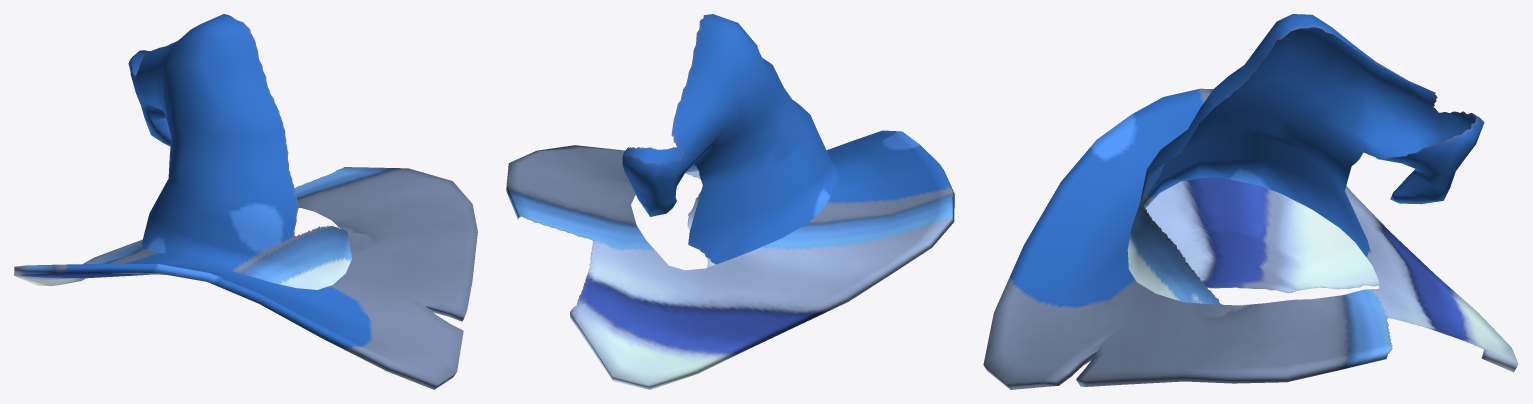
The model's file is Hat_WitchesHat.fbx.
The picture shows the model from 3 angles, left to right: view 1: azimuth 30°, elevation 25°; view 2: azimuth 150°, elevation 25°; view 3: azimuth 270°, elevation 25°; orthographic projection. The views are drawn at different scales.
Visible parts, largest first — view 1: Hat_WitchesHat; view 2: Hat_WitchesHat; view 3: Hat_WitchesHat.
Part boxes in pixels (bbox=[...]): Hat_WitchesHat: bbox=[14, 14, 477, 389]; Hat_WitchesHat: bbox=[506, 14, 954, 389]; Hat_WitchesHat: bbox=[983, 14, 1518, 389].
Size of the model in its own units: 68 by 45.94 by 63.54.
